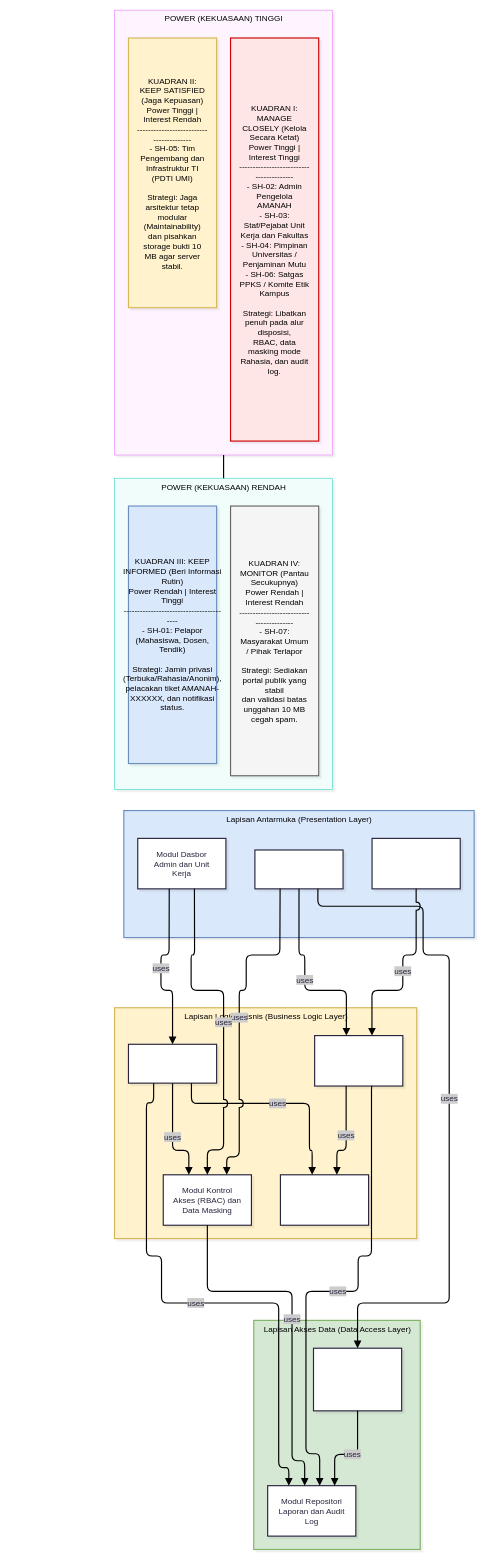
Some shapes in this 487 by 1563 pixel diagram are drawn without their labels. The shapes that lost their labels are listed below. From the top down, each one's centre as x and y in pixels, then its label:
the point at 300,870: Modul Formulir Pelaporan Publik
the point at 417,864: Modul Pelacakan Tiket (/amanah/cek)
the point at 173,1064: Modul Alur Kerja Disposisi Unit
the point at 359,1062: Modul Manajemen Tiket dan Umpan Balik
the point at 325,1201: Modul Pengelola Antrean Notifikasi
the point at 358,1380: Modul Manajemen Berkas Bukti (Maks 10 MB)
